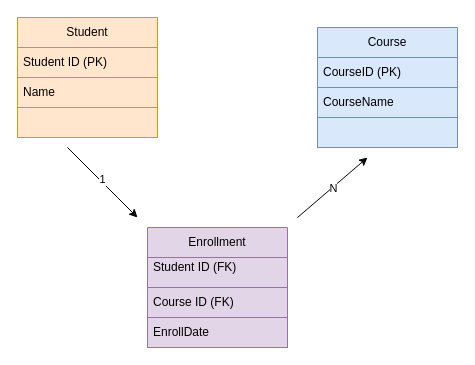
Image size: 475x365. Some labels were removed from this diagram. Here are the shapes that lost their labels. From the top down, the centre of each, then its label:
(87,122): BirthDate
(387,132): Price
